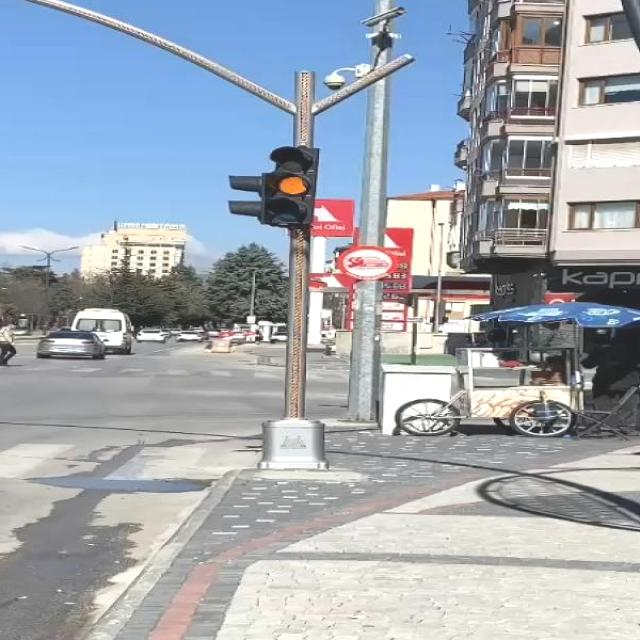sari: (229, 145, 319, 228)
